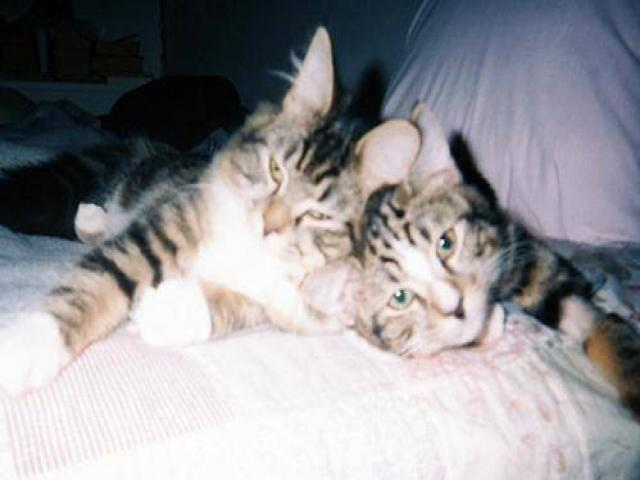cat: (62, 24, 621, 458)
